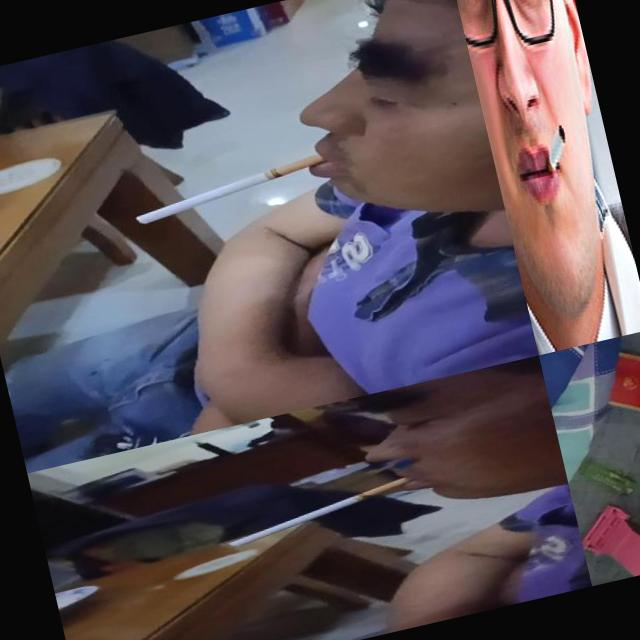cigarette: (126, 152, 330, 226), (216, 476, 418, 550), (538, 122, 574, 178)
